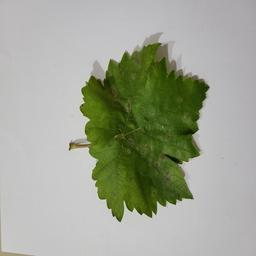Powdery-Mildew: (115, 95, 155, 139), (161, 109, 193, 156), (102, 137, 131, 175), (152, 158, 182, 193), (127, 49, 160, 80)
